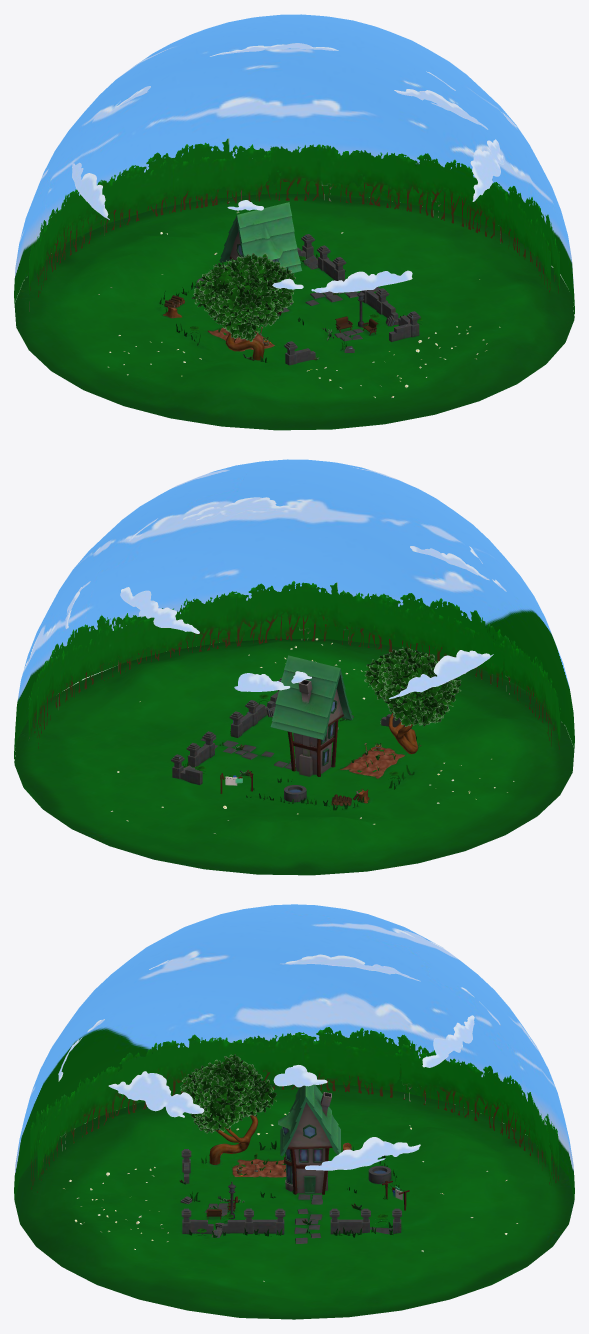
Rendered from mainScene.glb.
3 renders of one model, top to bottom at view 1: azimuth 30°, elevation 25°; view 2: azimuth 150°, elevation 25°; view 3: azimuth 270°, elevation 25°, orthographic.
Visible parts, largest first — view 1: __MeshNode__ (×2), Object_4, Object_8, Object_12; view 2: __MeshNode__ (×2), Object_4, Object_8, Object_12; view 3: __MeshNode__ (×2), Object_4, Object_8, Object_12.
Boxes of the visible parts, bbox=[...] form: __MeshNode__ (×2): bbox=[14, 193, 574, 430]; Object_4: bbox=[14, 14, 574, 317]; Object_8: bbox=[29, 138, 559, 311]; Object_12: bbox=[72, 43, 504, 292]; __MeshNode__ (×2): bbox=[14, 638, 574, 875]; Object_4: bbox=[14, 459, 574, 762]; Object_8: bbox=[28, 581, 560, 749]; Object_12: bbox=[65, 497, 506, 698]; __MeshNode__ (×2): bbox=[14, 1054, 574, 1319]; Object_4: bbox=[14, 904, 574, 1199]; Object_8: bbox=[30, 1027, 558, 1192]; Object_12: bbox=[58, 954, 500, 1170].
Bounding box in the file's own units: 58.02 × 32.33 × 58.02.
8 materials, 8 textured.
